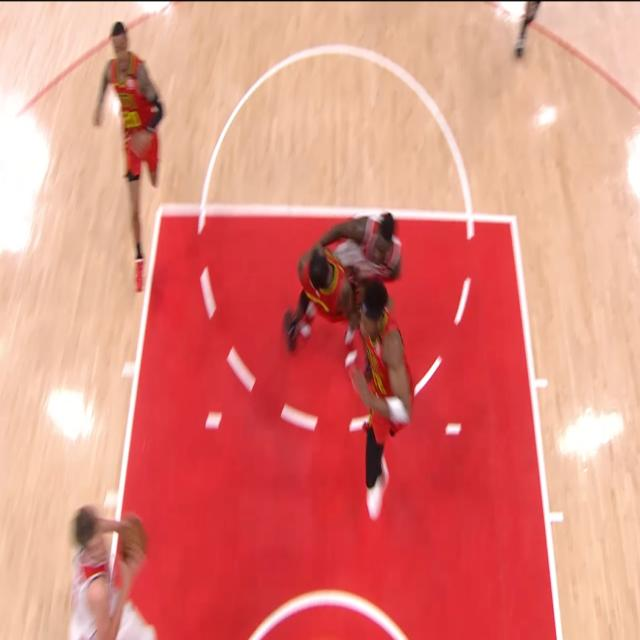Foul: (286, 208, 398, 299)
